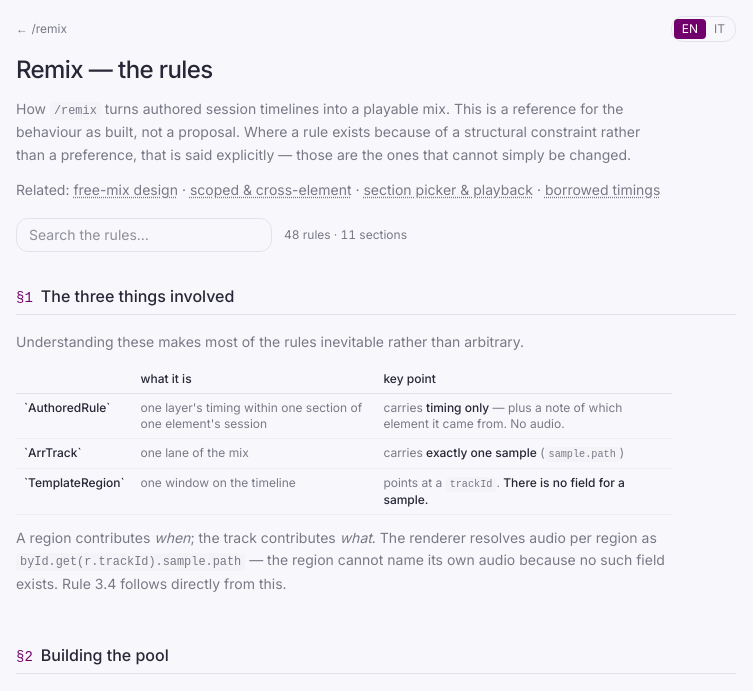
Scenario: RulebookPage — language switch › switches the rules themselves, not just the chrome
Step 1. Click the button "IT" → (720, 29), box [706, 19, 733, 39]
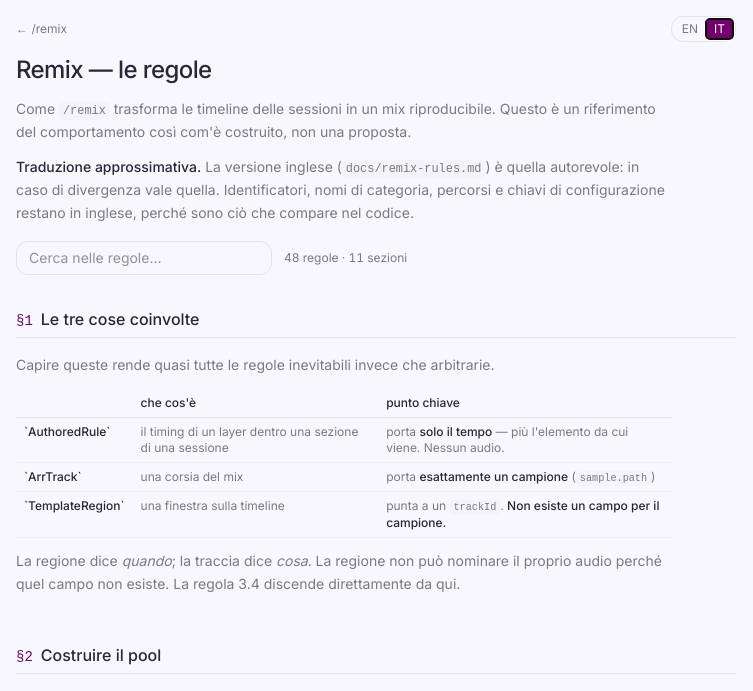
Result: the text "48 regole · 11 sezioni" is shown at [284, 250, 407, 266]
